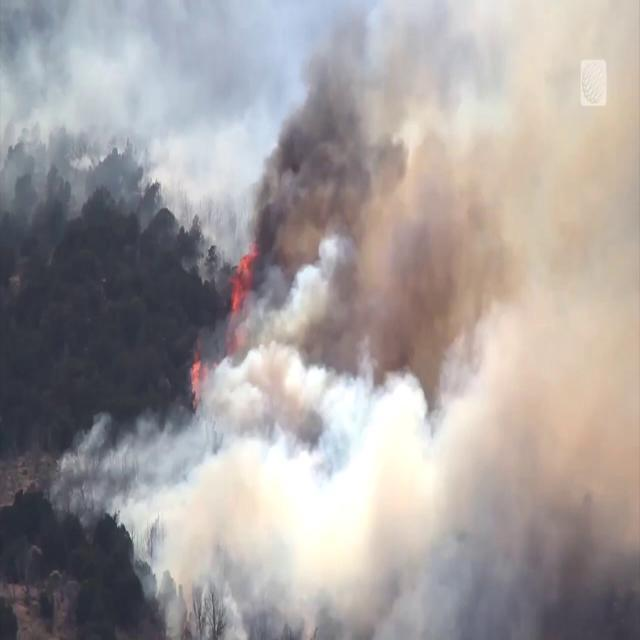Fire: (228, 244, 254, 334)
Smoke: (176, 1, 640, 636)
